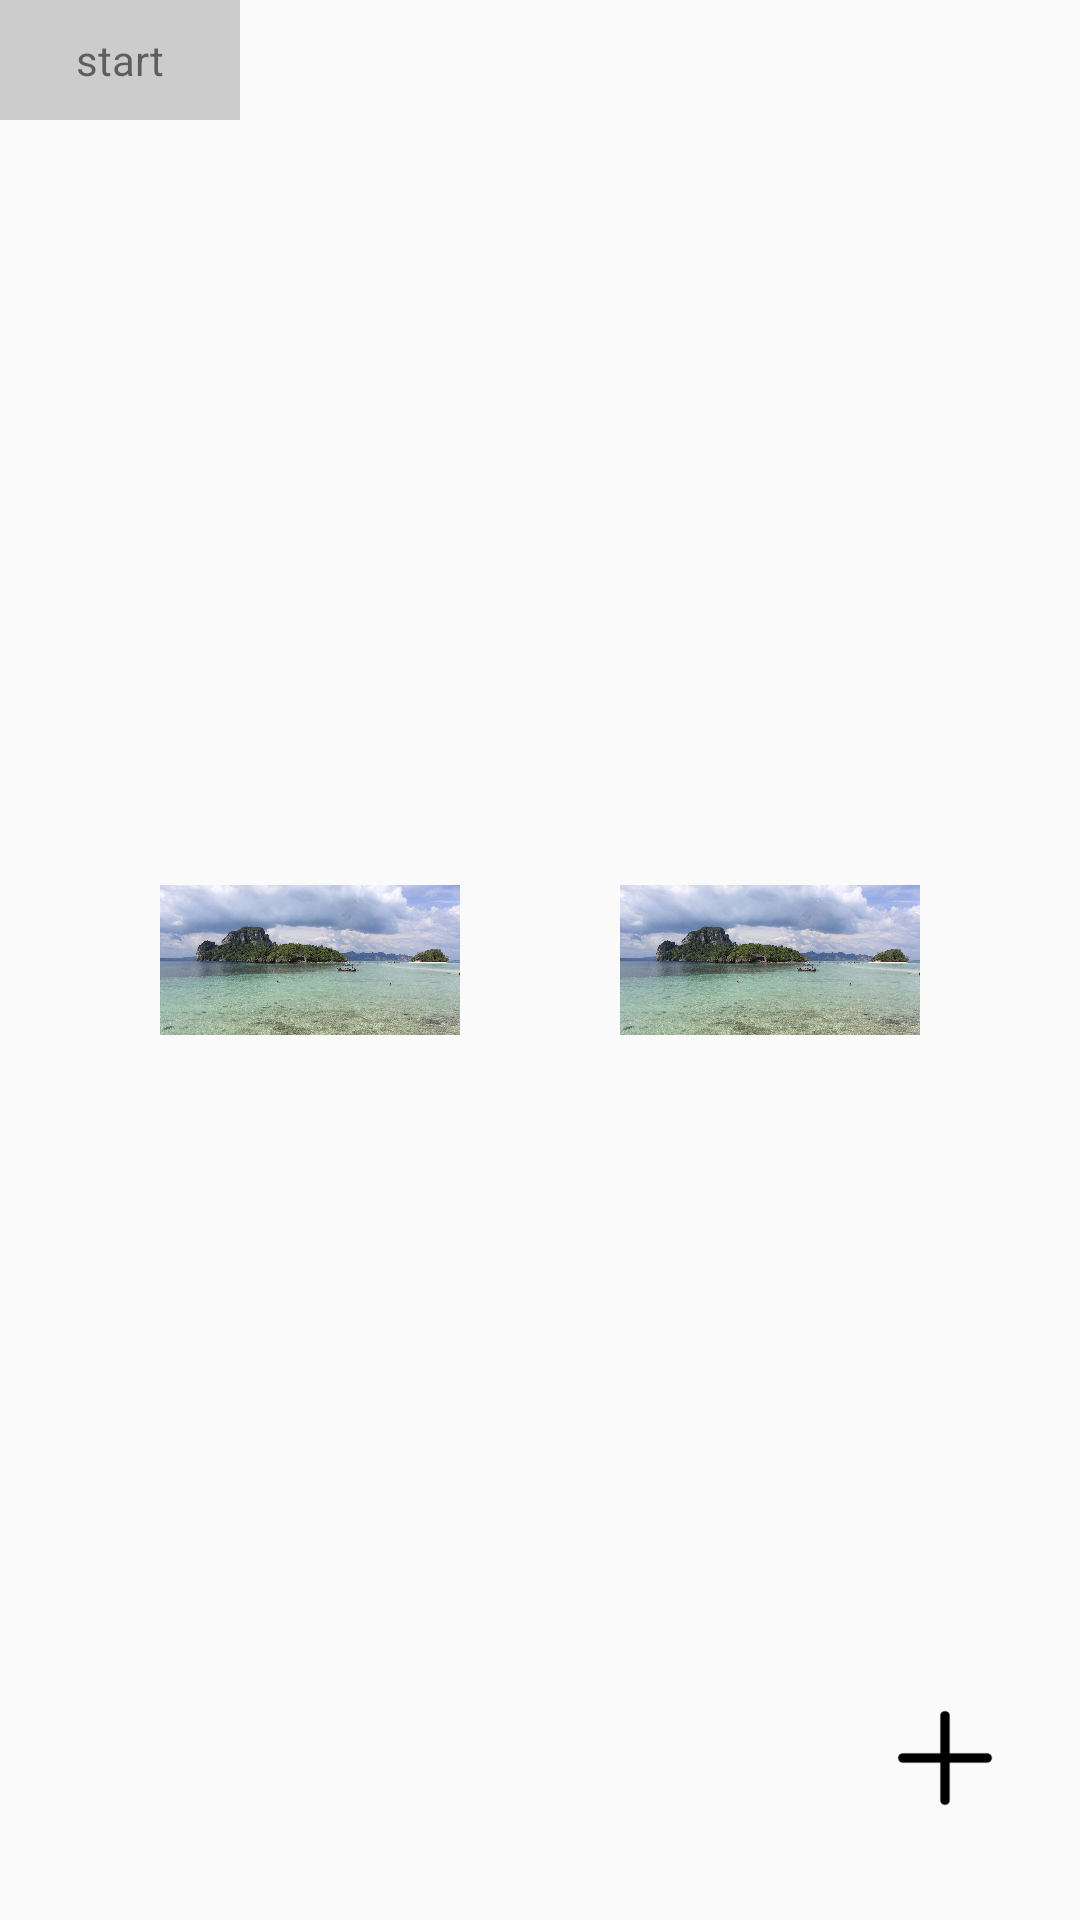

Point at icon controls on the screen. Image size 1080 × 1920, points as [x,y].
add: [945,1758]
